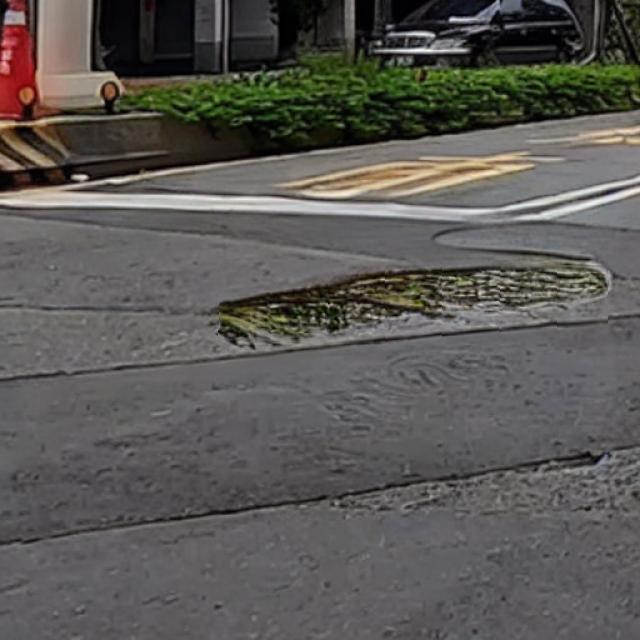puddle: (220, 261, 609, 347)
